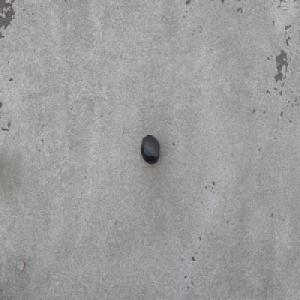FuelCap: (140, 134, 160, 165)
